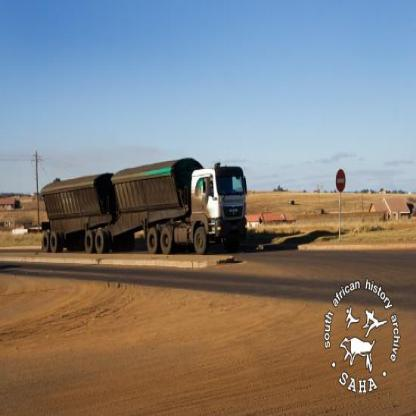dump_truck: (37, 153, 250, 266)
